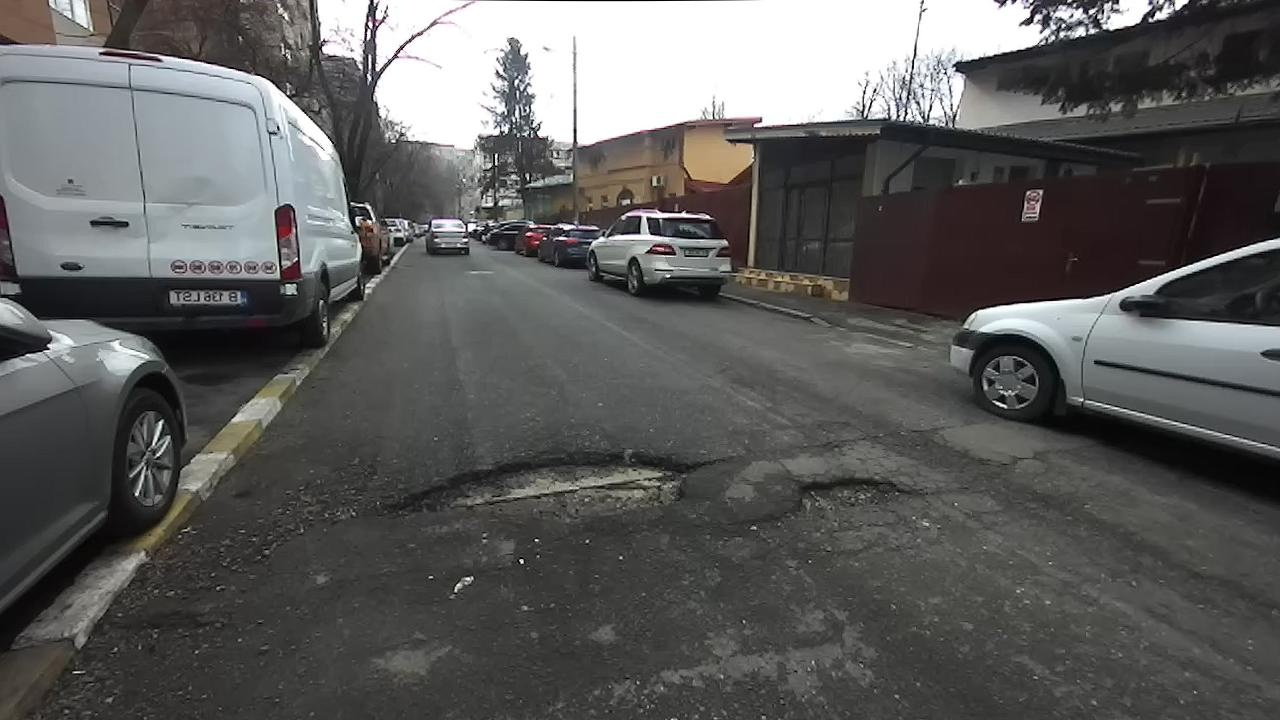pothole: (354, 440, 730, 529), (739, 470, 926, 528)
